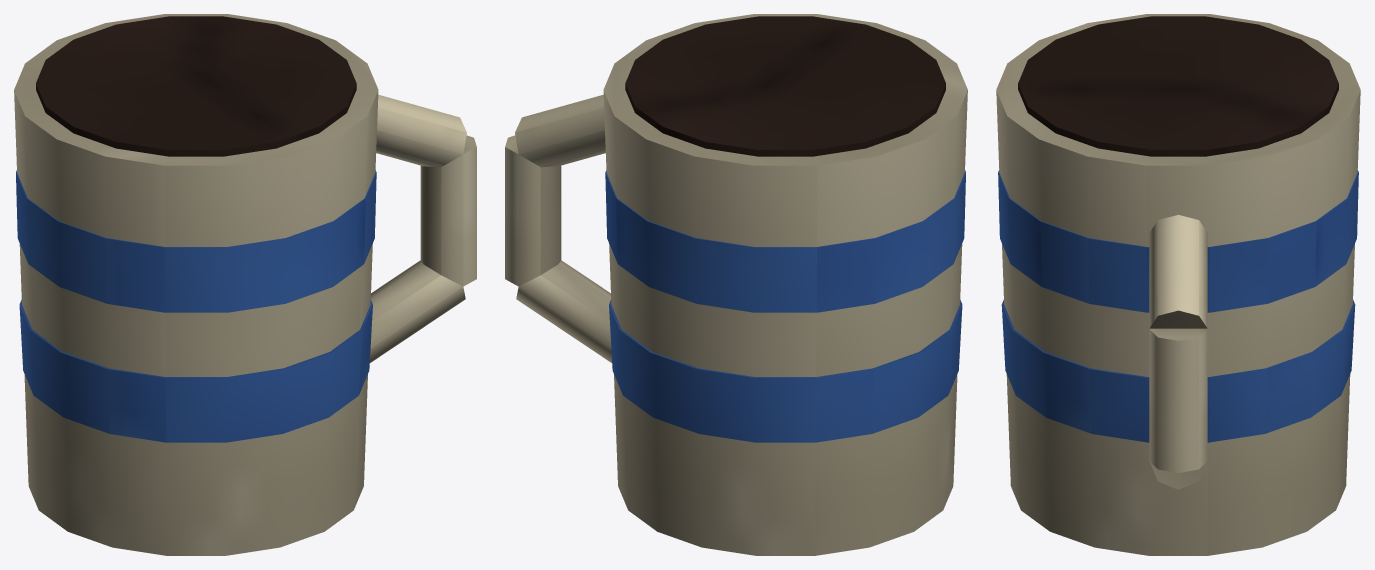
File: mug.glb
The picture shows the model from 3 angles, left to right: view 1: azimuth 30°, elevation 25°; view 2: azimuth 150°, elevation 25°; view 3: azimuth 270°, elevation 25°; orthographic projection.
Parts seen in each view (by area): view 1: mug; view 2: mug; view 3: mug.
Boxes of the visible parts, x1,y1,x2,y2 form: mug: (14, 14, 476, 555); mug: (505, 14, 967, 555); mug: (996, 14, 1360, 555).
Bounding box in the file's own units: 0.1372 × 0.122 × 0.1.
Materials: 3 (3 with a texture image).
